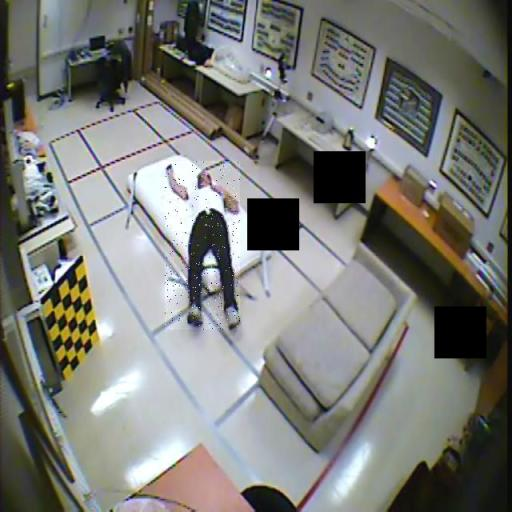Fall: (166, 161, 241, 330)
